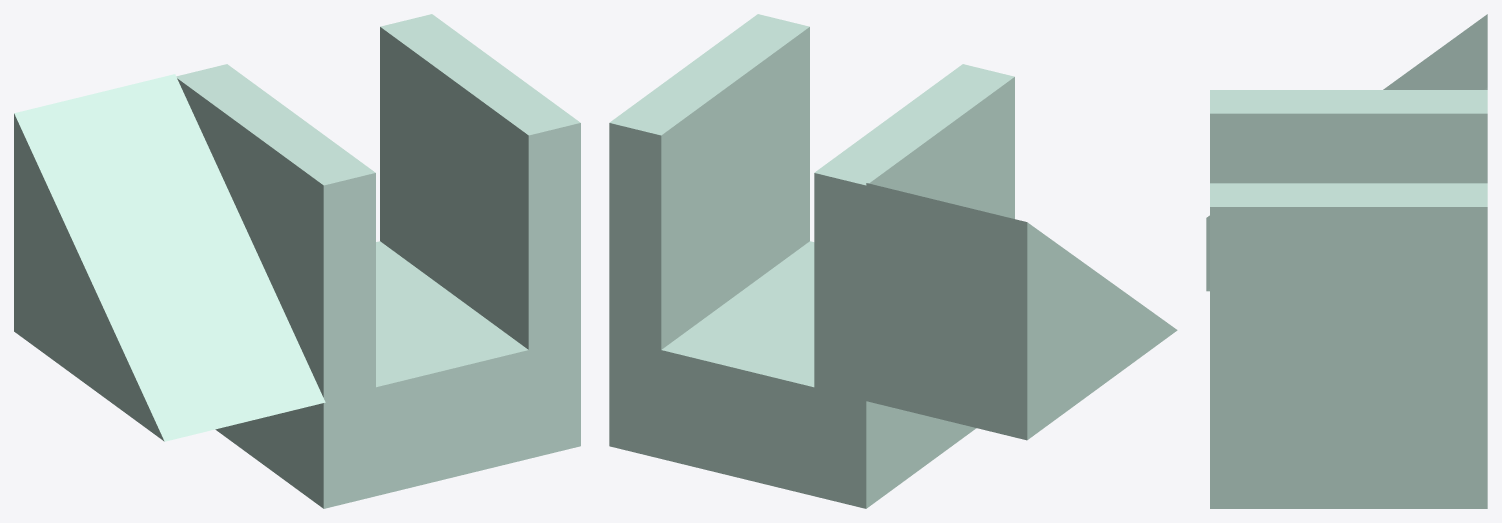
3 renders of one model, left to right at view 1: azimuth 30°, elevation 25°; view 2: azimuth 150°, elevation 25°; view 3: azimuth 270°, elevation 25°, orthographic. The views are drawn at different scales.
Parts seen in each view (by area): view 1: Renderer Node; view 2: Renderer Node; view 3: Renderer Node.
Boxes of the visible parts, x1,y1,x2,y2 form: Renderer Node: [14, 14, 580, 508]; Renderer Node: [609, 14, 1177, 508]; Renderer Node: [1206, 14, 1487, 508].
Size of the model in its own units: 1.01 by 0.7563 by 0.6328.
